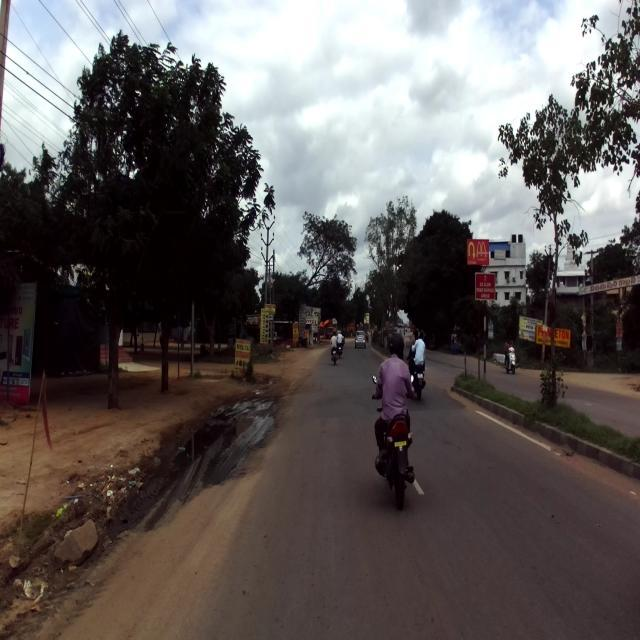Pothole: (238, 389, 282, 465)
